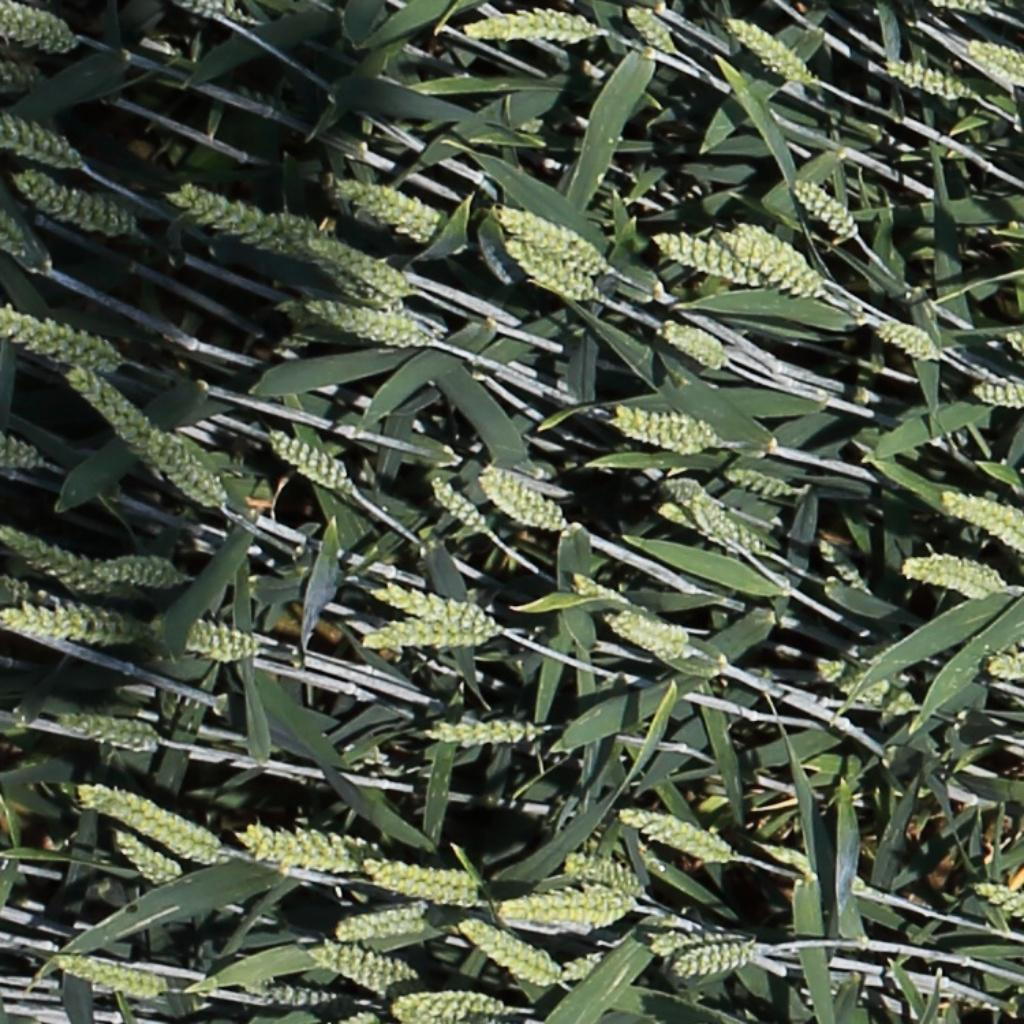0-0: (66, 364, 211, 496), (77, 787, 225, 867), (172, 181, 318, 245), (367, 577, 500, 641), (722, 219, 825, 298), (334, 176, 448, 244), (0, 527, 111, 595), (12, 169, 131, 232), (492, 204, 606, 268), (305, 234, 415, 300), (454, 918, 558, 985), (499, 886, 630, 937), (238, 820, 374, 869), (303, 299, 428, 352), (503, 236, 596, 305), (815, 658, 917, 720), (1, 309, 113, 364), (141, 435, 223, 510), (5, 602, 148, 644), (651, 230, 760, 285), (617, 812, 731, 864), (360, 861, 476, 912), (724, 17, 811, 84), (605, 404, 716, 454), (899, 550, 1005, 602), (455, 6, 596, 45), (263, 431, 350, 492), (600, 607, 692, 663), (477, 468, 562, 528), (940, 491, 1024, 551), (686, 494, 763, 557), (54, 954, 163, 996), (0, 111, 80, 167), (308, 944, 412, 987), (55, 714, 152, 760), (391, 987, 507, 1024), (790, 176, 858, 238), (812, 532, 872, 600), (107, 831, 177, 888), (425, 476, 490, 537), (883, 58, 969, 103), (651, 931, 753, 968), (179, 617, 261, 662), (0, 200, 49, 275), (363, 620, 481, 651), (423, 719, 533, 752), (659, 320, 726, 373), (561, 857, 643, 898), (331, 904, 424, 939), (94, 555, 181, 592), (671, 946, 752, 982), (622, 2, 675, 57), (1, 4, 70, 46), (236, 984, 352, 1006), (876, 319, 936, 361), (970, 882, 1024, 928), (968, 40, 1024, 84), (723, 465, 794, 496), (972, 383, 1024, 414), (556, 953, 610, 979), (1, 434, 42, 466), (984, 652, 1024, 679)
